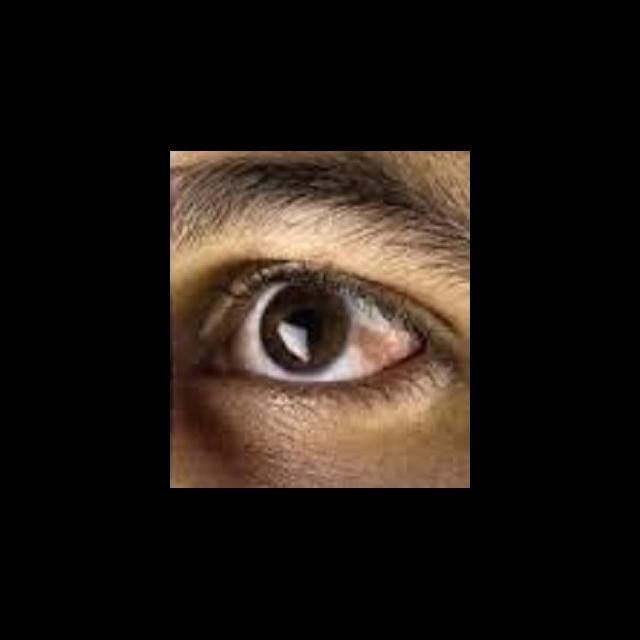eye: (231, 283, 425, 386)
iris: (257, 285, 348, 378)
